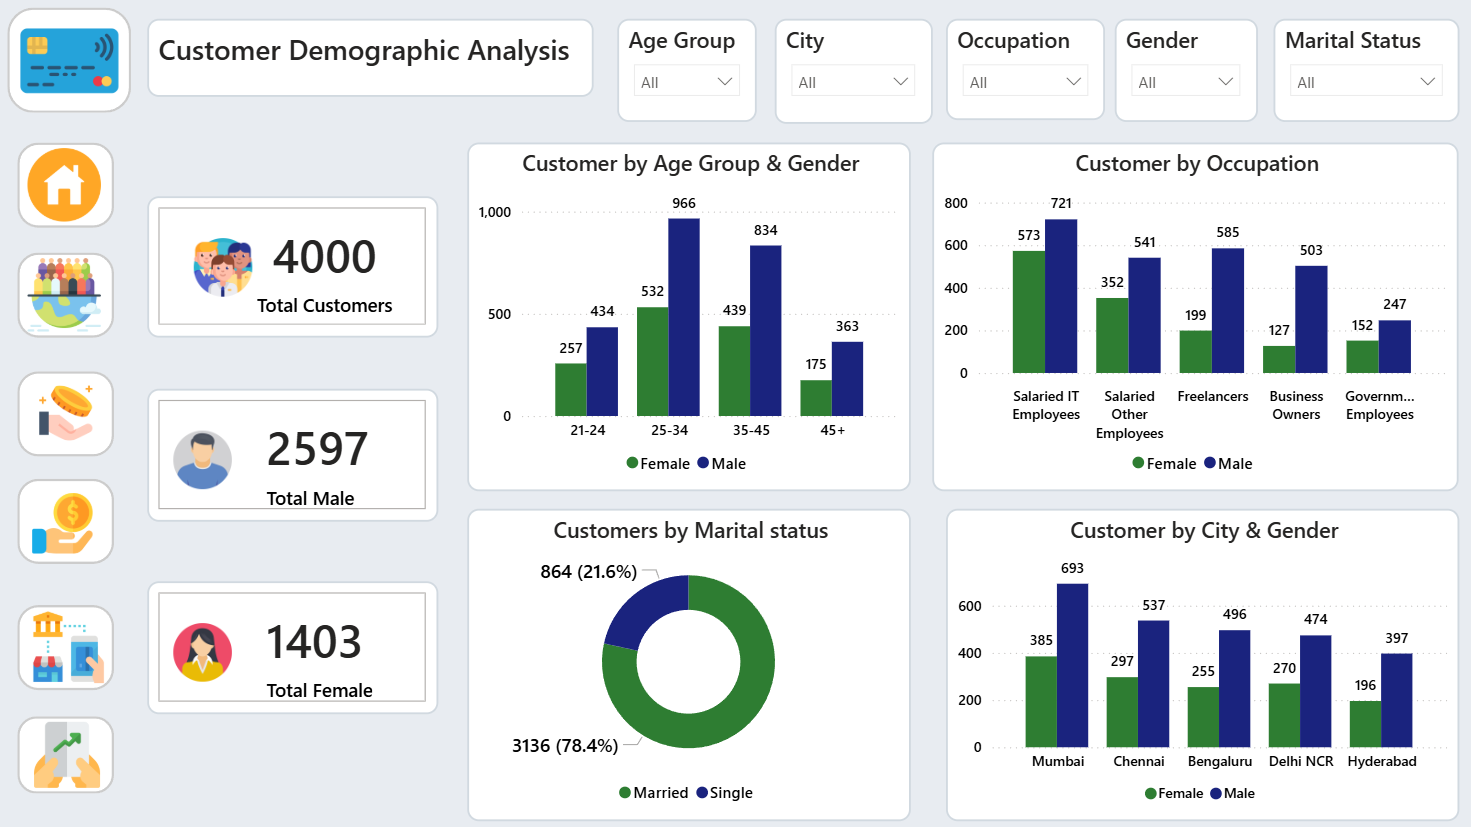

This screenshot's page, from the dashboard's own definition file:
{"tool":"powerbi","page":{"name":"Demographic Analysis","canvas":[1280,720],"ordinal":1},"visuals":[{"type":"shape","box":[10,10.6,106.7,90.7],"z":0,"group":"g1"},{"type":"shape","box":[18.3,620,83.3,66.7],"z":0},{"type":"image","box":[14.4,10,98.4,96.7],"z":1000,"group":"g1"},{"type":"shape","box":[18.3,525,83.3,73.3],"z":1000},{"type":"shape","box":[18.3,416.7,83.3,73.3],"z":2000},{"type":"shape","box":[18.3,323.3,83.3,73.3],"z":3000},{"type":"shape","box":[18.3,221.7,83.3,73.3],"z":4000},{"type":"shape","box":[18.3,126.7,83.3,73.3],"z":5000},{"type":"clusteredColumnChart","title":"Customer by Age Group & Gender","fields":{"Category":["Dim Customers.age_group"],"Y":["DAX Measures.Total Customers"],"Series":["Dim Customers.gender"]},"box":[405.7,127.1,381.4,300],"z":6000},{"type":"clusteredColumnChart","title":"Customer by City & Gender","fields":{"Y":["DAX Measures.Total Customers"],"Series":["Dim Customers.gender"],"Category":["Dim Customers.city"]},"box":[817.1,441.4,441.4,268.6],"z":7000},{"type":"clusteredColumnChart","title":"Customer by Occupation","fields":{"Y":["DAX Measures.Total Customers"],"Series":["Dim Customers.gender"],"Category":["Dim Customers.occupation"]},"box":[805.7,127.1,452.9,300],"z":8000},{"type":"donutChart","title":"Customers by Marital status","fields":{"Category":["Dim Customers.marital status"],"Y":["DAX Measures.Total Customers"]},"box":[405.7,441.4,381.4,268.6],"z":9000},{"type":"textbox","box":[130,20,384.3,67.1],"z":10000},{"type":"slicer","title":"Age Group","fields":{"Values":["Dim Customers.age_group"]},"box":[534.3,20,120,88.6],"z":11000},{"type":"slicer","title":"City","fields":{"Values":["Dim Customers.city"]},"box":[670,20,135.7,90],"z":12000},{"type":"slicer","title":"Gender","fields":{"Values":["Dim Customers.gender"]},"box":[962.9,20,122.9,88.6],"z":13000},{"type":"slicer","title":"Marital Status","fields":{"Values":["Dim Customers.marital status"]},"box":[1098.6,20,160,88.6],"z":14000},{"type":"slicer","title":"Occupation","fields":{"Values":["Dim Customers.occupation"]},"box":[817.1,20,137.1,87.1],"z":15000},{"type":"cardVisual","fields":{"Data":["DAX Measures.Total Male"]},"box":[130,338.6,250,114.3],"z":16000},{"type":"cardVisual","fields":{"Data":["DAX Measures.Total Female"]},"box":[130,504.3,250,114.3],"z":17000},{"type":"cardVisual","fields":{"Data":["DAX Measures.Total Customers"]},"box":[130,172.9,250,121.4],"z":18000},{"type":"image","box":[18.3,126.7,80,73.3],"z":19000},{"type":"image","box":[18.3,221.7,80,73.3],"z":20000},{"type":"image","box":[30,331.7,60,56.7],"z":21000},{"type":"image","box":[21.7,423.3,71.7,61.7],"z":22000},{"type":"image","box":[26.7,525,71.7,73.3],"z":23000},{"type":"image","box":[25,620,73.3,66.7],"z":24000},{"type":"group","id":"g1","title":"Group 1","box":[10,10,106.7,96.7],"z":25000}]}

Visuals, with their boxes in screenshot pixels (x1, y1, x2, y2), scaled from the page's 1280x720 canvas onto the 1471x827 screenshot:
shape: 11/12/134/116
shape: 21/712/117/789
image: 17/11/130/123
shape: 21/603/117/687
shape: 21/479/117/563
shape: 21/371/117/456
shape: 21/255/117/339
shape: 21/146/117/230
"Customer by Age Group & Gender" clusteredColumnChart: 466/146/905/491
"Customer by City & Gender" clusteredColumnChart: 939/507/1446/816
"Customer by Occupation" clusteredColumnChart: 926/146/1446/491
"Customers by Marital status" donutChart: 466/507/905/816
textbox: 149/23/591/100
"Age Group" slicer: 614/23/752/125
"City" slicer: 770/23/926/126
"Gender" slicer: 1107/23/1248/125
"Marital Status" slicer: 1263/23/1446/125
"Occupation" slicer: 939/23/1097/123
cardVisual - DAX Measures.Total Male: 149/389/437/520
cardVisual - DAX Measures.Total Female: 149/579/437/711
cardVisual - DAX Measures.Total Customers: 149/199/437/338
image: 21/146/113/230
image: 21/255/113/339
image: 34/381/103/446
image: 25/486/107/557
image: 31/603/113/687
image: 29/712/113/789
"Group 1" group: 11/11/134/123
